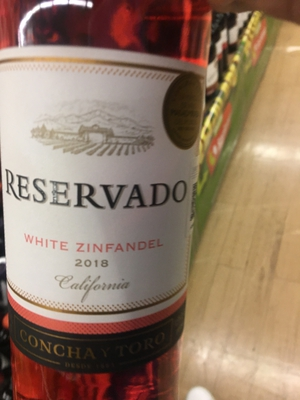reservado white zinfandel: (1, 6, 207, 400)
